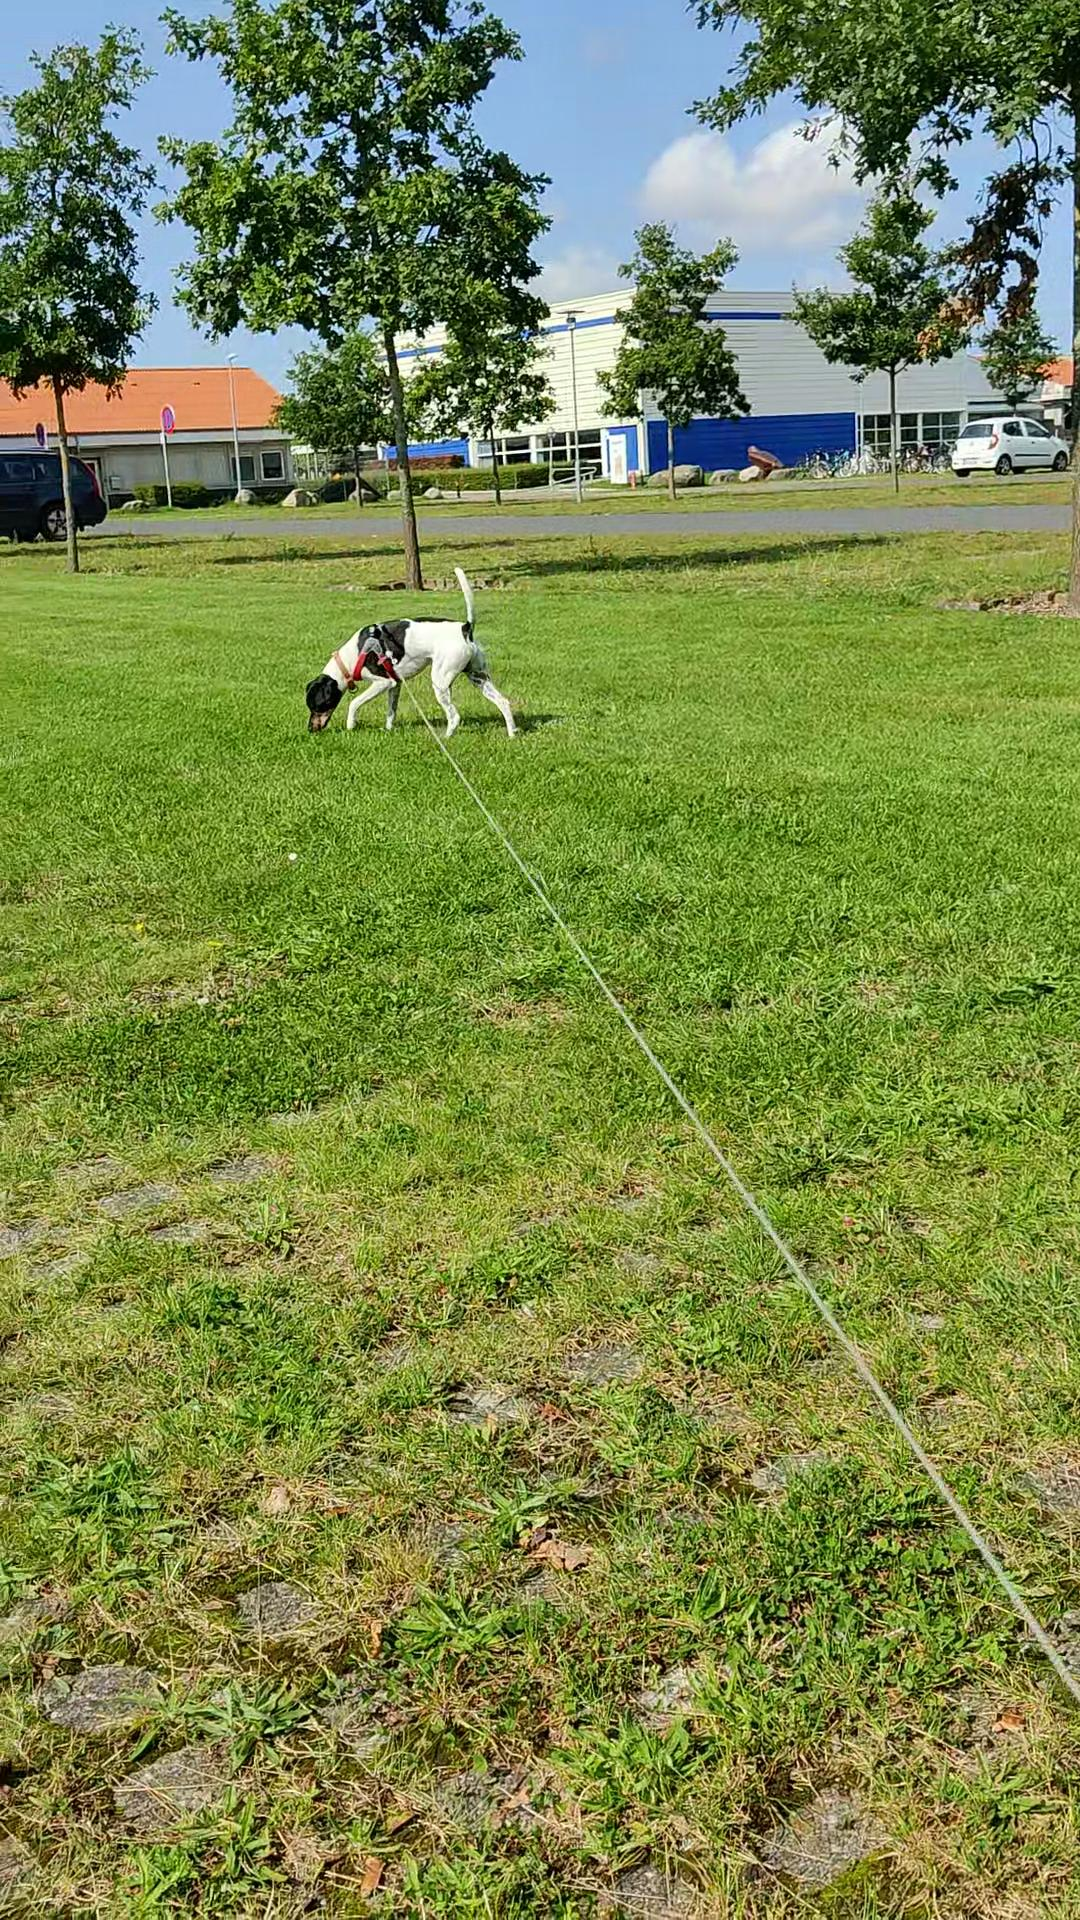Dog: (299, 562, 527, 741)
